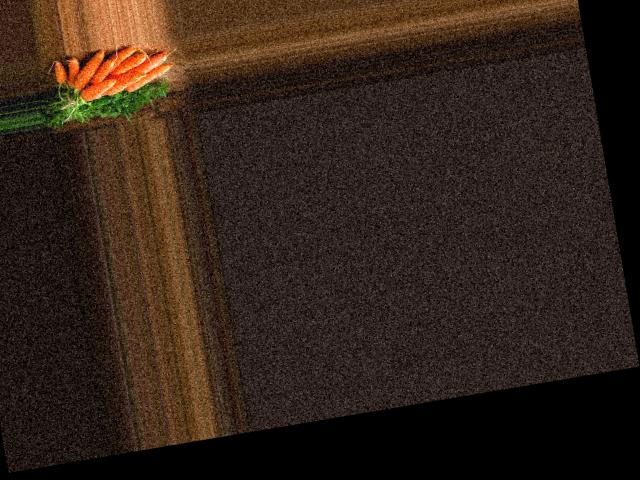carrot: (49, 59, 68, 88)
